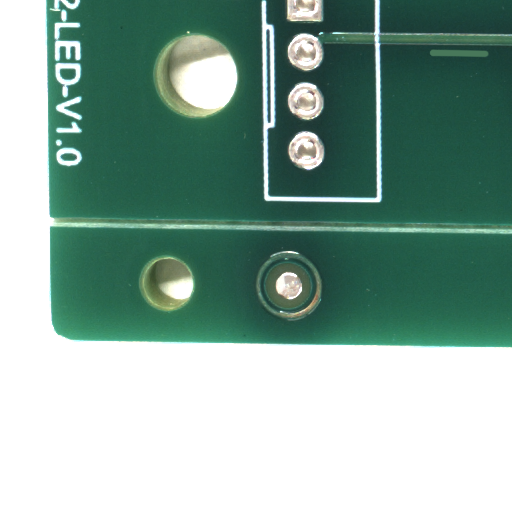Spurious_copper: (459, 53, 512, 64)
